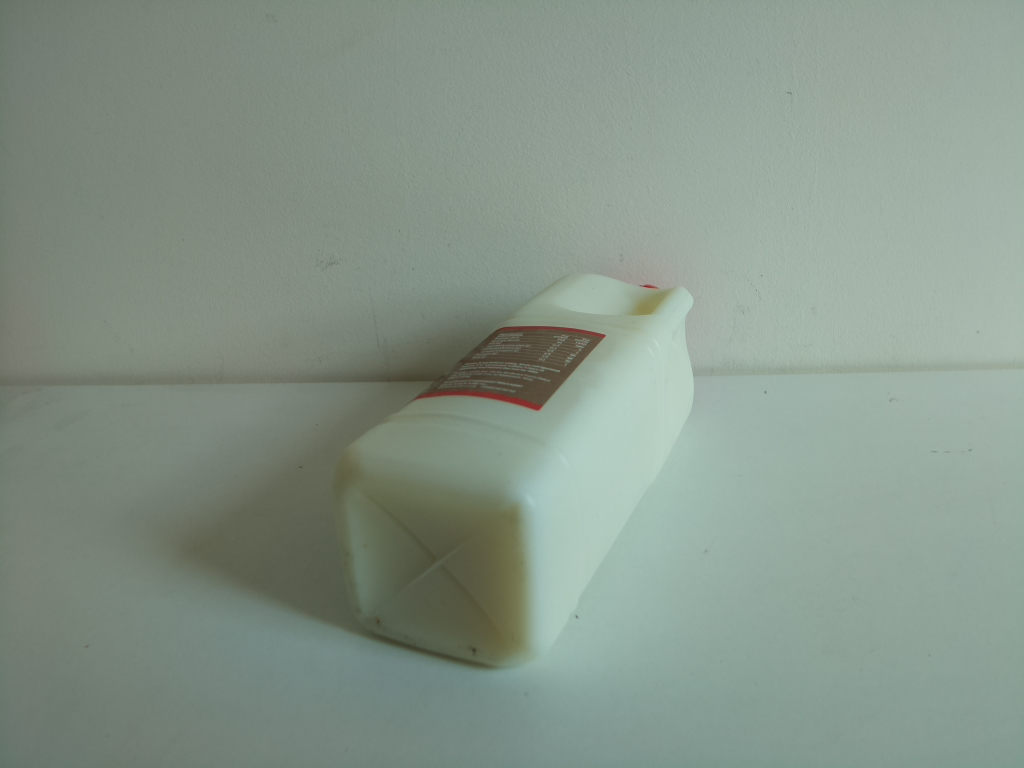milk: (333, 266, 705, 675)
